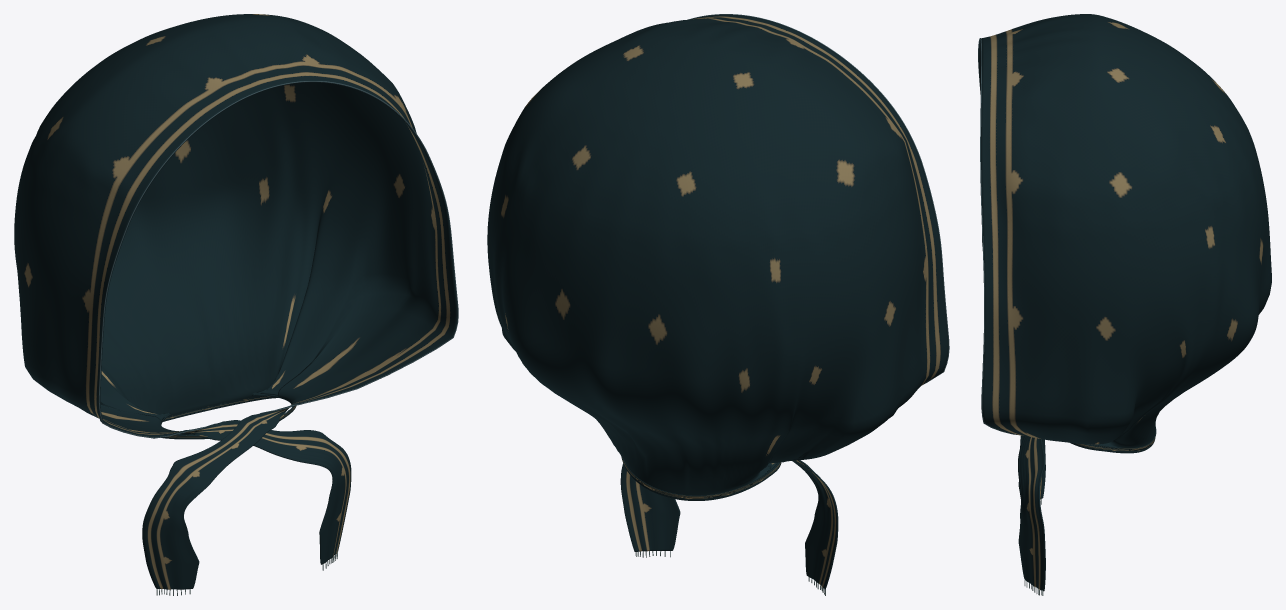
File: Masculine-taper-shirtless-pashmina249-headgear.glb
3 views of the same model, side by side, from view 1: azimuth 30°, elevation 25°; view 2: azimuth 150°, elevation 25°; view 3: azimuth 270°, elevation 25° (orthographic). The views are drawn at different scales.
Parts seen in each view (by area): view 1: 226 headgear / Headwear / continuous woven pashmina239, 226 headgear / Headwear / face edge239; view 2: 226 headgear / Headwear / continuous woven pashmina239, 226 headgear / Headwear / face edge239; view 3: 226 headgear / Headwear / continuous woven pashmina239, 226 headgear / Headwear / face edge239.
Boxes of the visible parts, x1,y1,x2,y2 form: 226 headgear / Headwear / continuous woven pashmina239: (14, 14, 457, 589); 226 headgear / Headwear / face edge239: (98, 81, 458, 438); 226 headgear / Headwear / continuous woven pashmina239: (487, 14, 948, 589); 226 headgear / Headwear / face edge239: (688, 14, 949, 384); 226 headgear / Headwear / continuous woven pashmina239: (978, 14, 1271, 591); 226 headgear / Headwear / face edge239: (978, 38, 1016, 434).
Bounding box in the file's own units: 1.03 × 1.41 × 0.7255.
3 materials, 1 textured.
